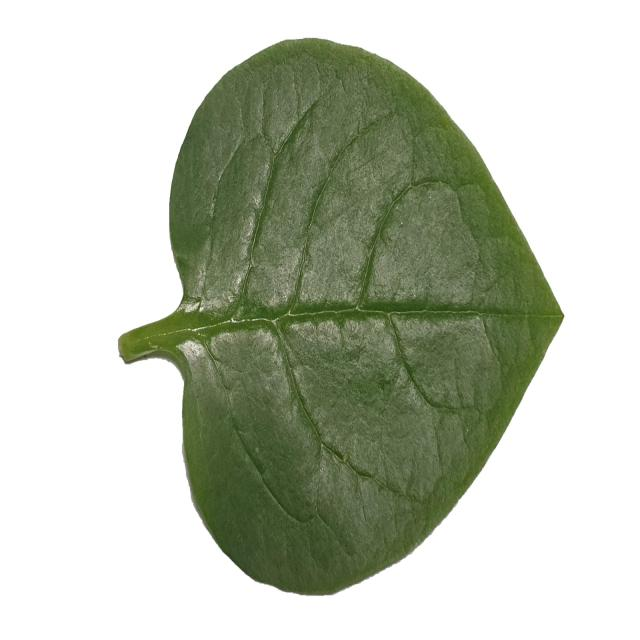Medicinal-Basale: (116, 34, 559, 594)
